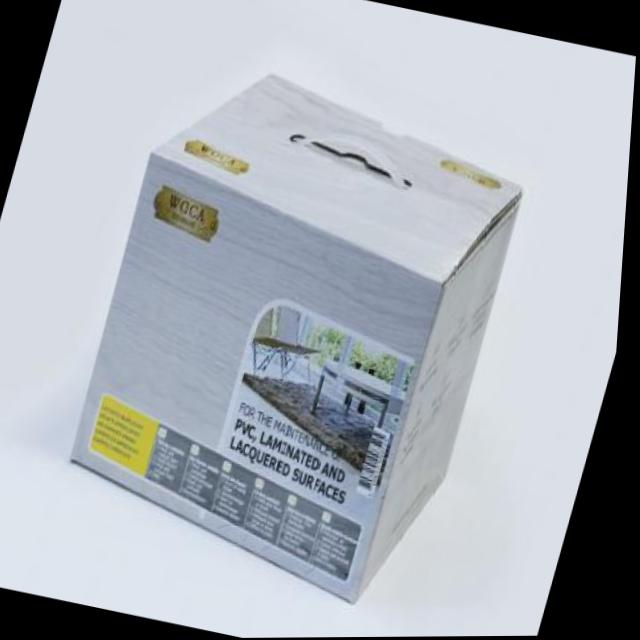box: (36, 29, 568, 636)
